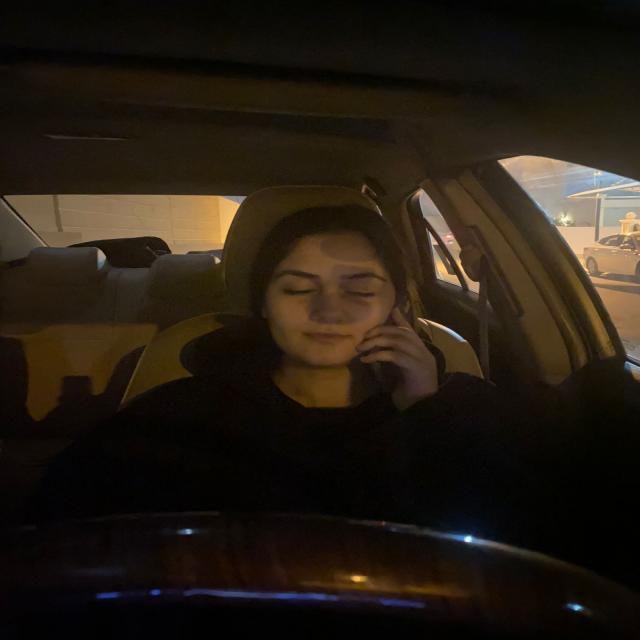drowsy: (246, 199, 406, 371)
